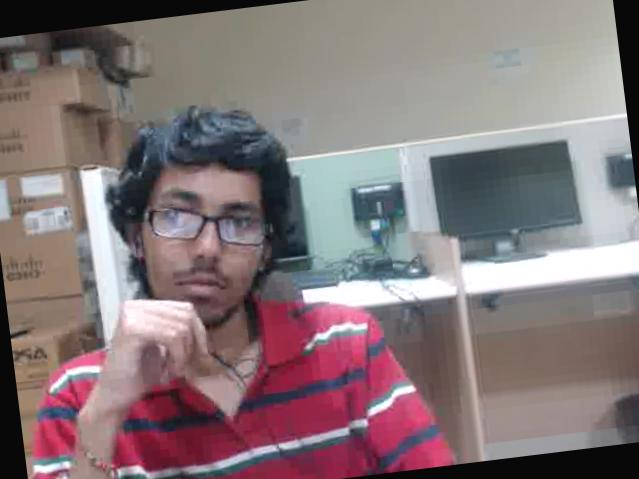bingung: (132, 151, 280, 322)
